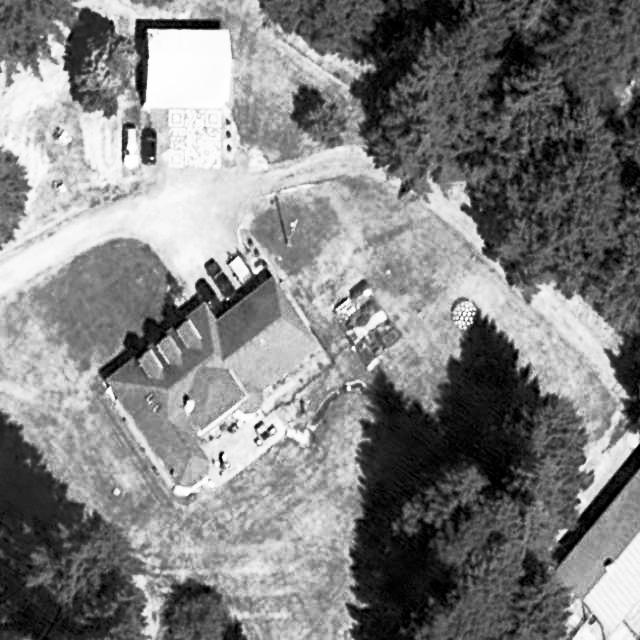qr_code: (169, 109, 220, 167)
